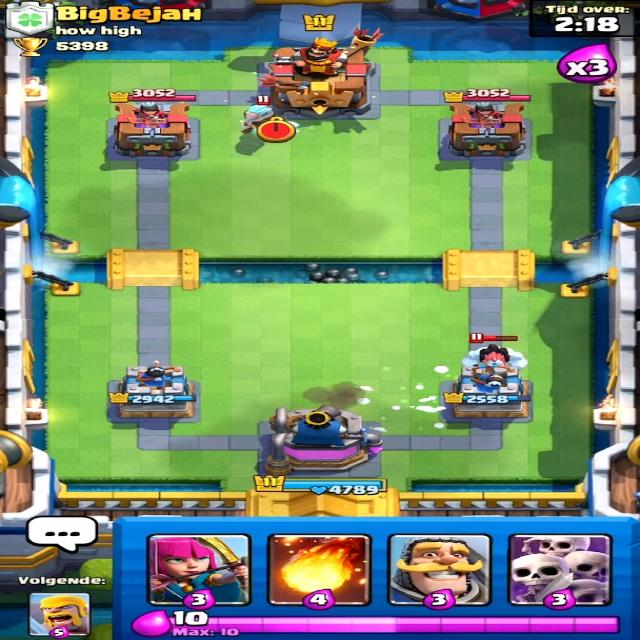Enemy_Ice_Golem_Troop: (459, 345, 525, 371)
Fireball_Card: (268, 532, 375, 608)
